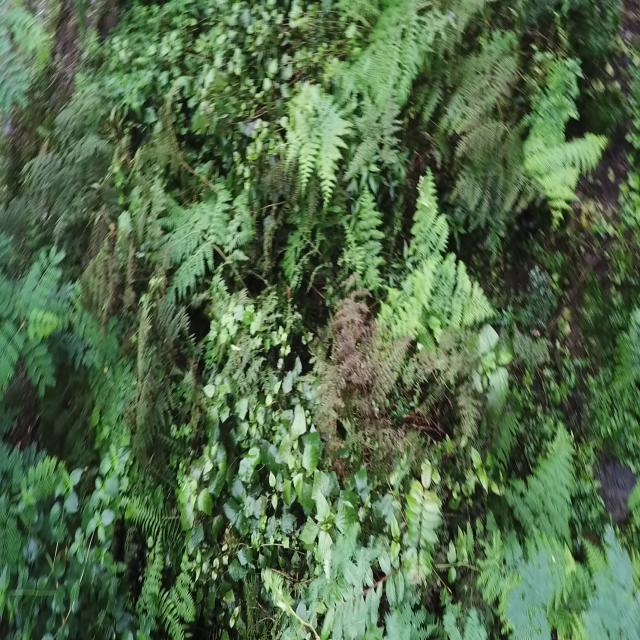Mysore-Thorn-Weed: (312, 507, 640, 640), (0, 234, 80, 407), (0, 0, 36, 119)
